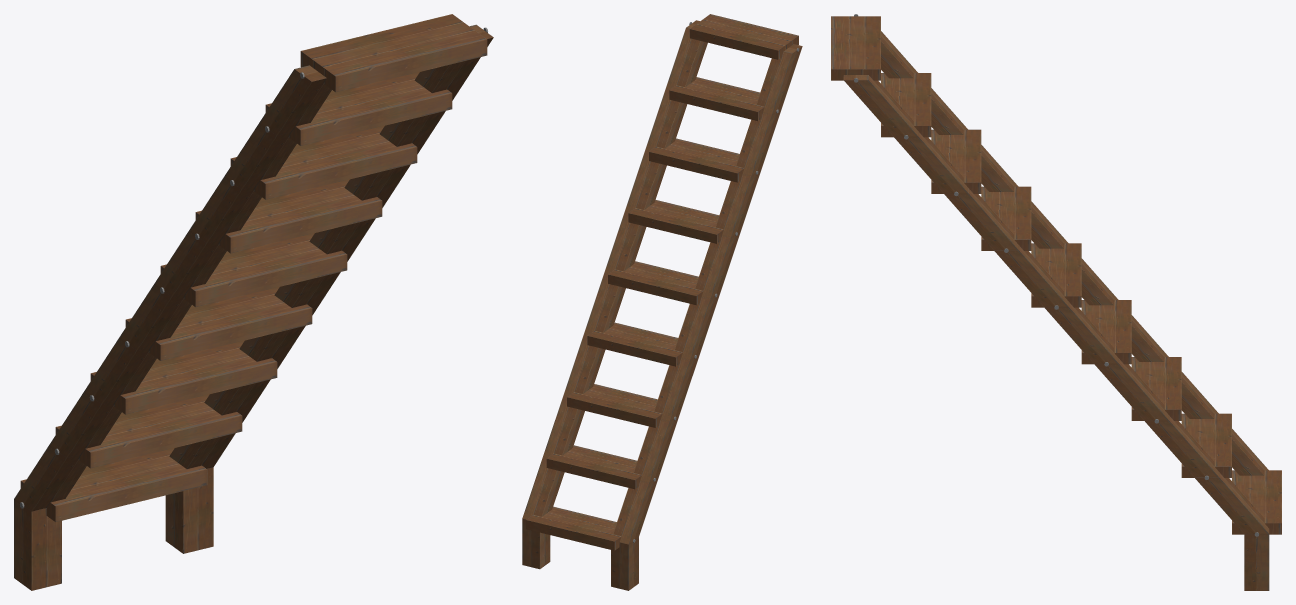
File: Ladder.fbx
3 renders of one model, left to right at view 1: azimuth 30°, elevation 25°; view 2: azimuth 150°, elevation 25°; view 3: azimuth 270°, elevation 25°, orthographic. The views are drawn at different scales.
Parts seen in each view (by area): view 1: Ladder; view 2: Ladder; view 3: Ladder.
Boxes of the visible parts, <box> form: Ladder: <box>14,14,493,590</box>; Ladder: <box>522,14,802,590</box>; Ladder: <box>831,14,1281,590</box>.
Size of the model in its own units: 122 by 455 by 360.
